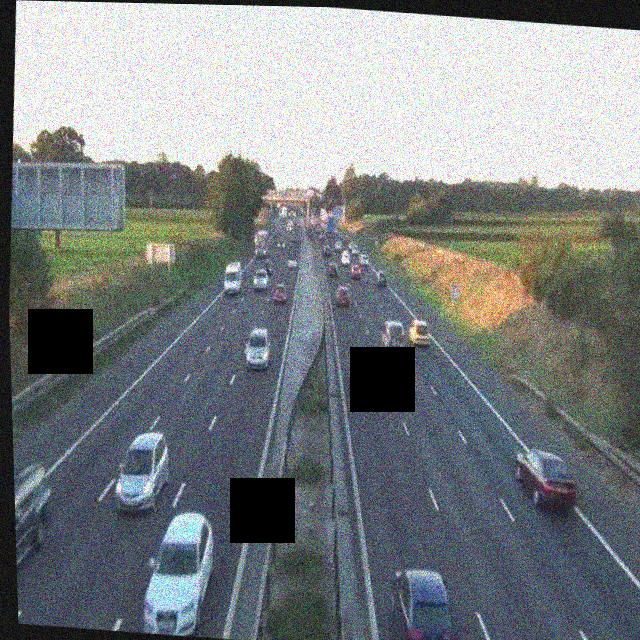bus: (254, 229, 269, 257)
car: (140, 509, 218, 638), (14, 461, 57, 598), (390, 567, 462, 640), (114, 429, 172, 515), (513, 448, 580, 511), (349, 355, 381, 398), (244, 326, 273, 370), (378, 320, 407, 359), (407, 318, 431, 346), (253, 267, 270, 291), (335, 282, 351, 305), (271, 281, 286, 305), (375, 269, 388, 286), (349, 266, 363, 281), (328, 262, 340, 279), (285, 256, 297, 271), (261, 247, 271, 261), (324, 242, 333, 256)
truck: (319, 212, 331, 234)
